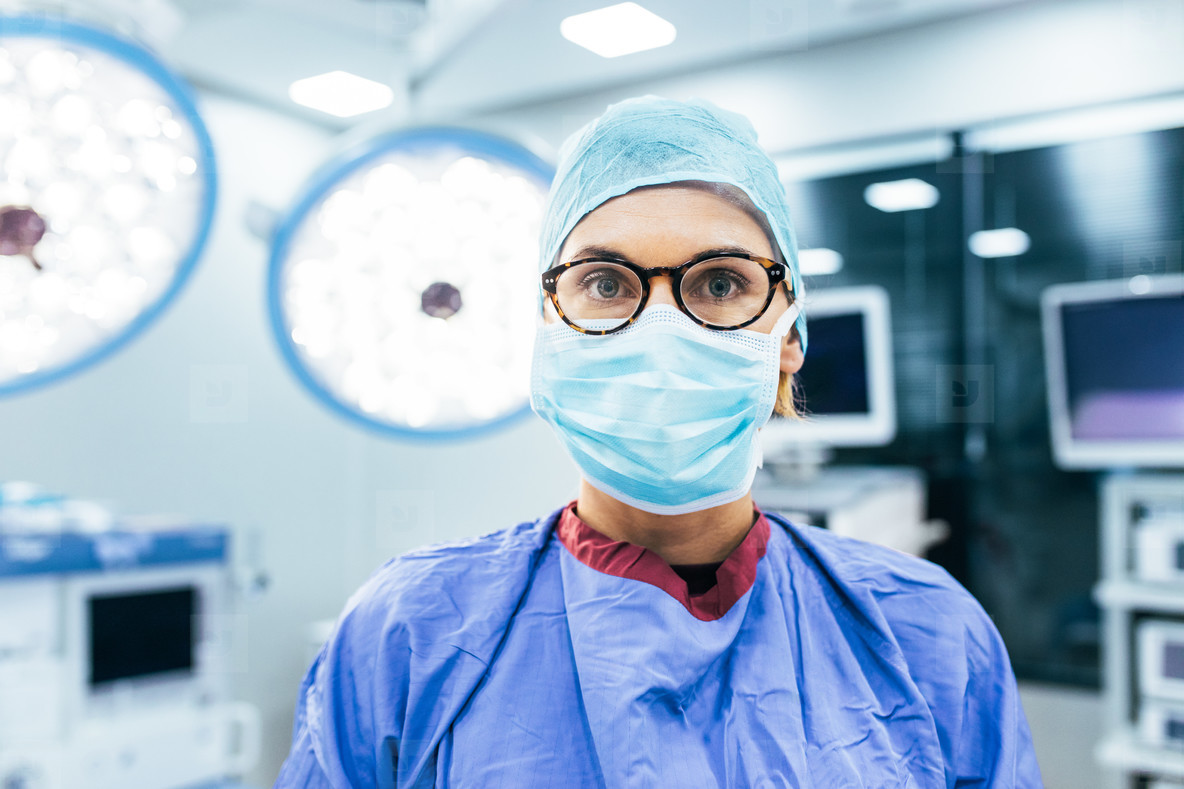mask: (526, 319, 800, 507)
